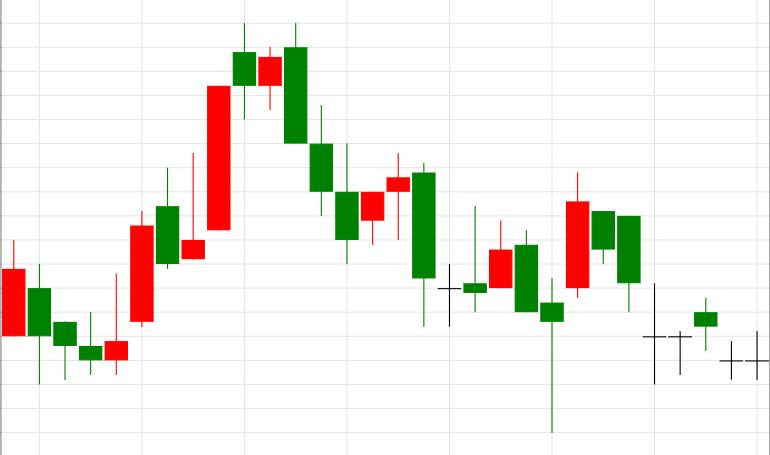morning_star_rise: (412, 161, 589, 433)
three_black_crows_fall: (105, 21, 359, 376)
